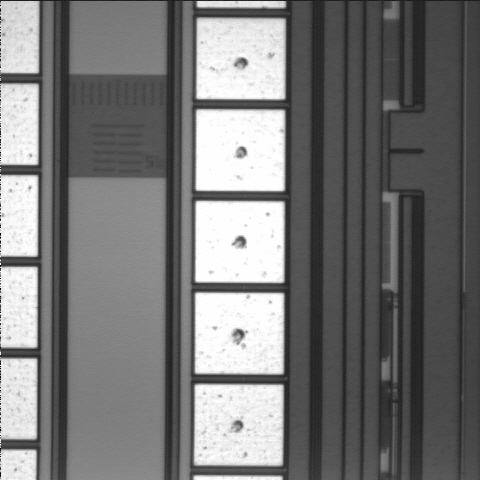pad: (196, 18, 285, 100), (196, 109, 285, 191), (195, 201, 284, 283), (194, 384, 283, 466), (195, 293, 284, 374)
